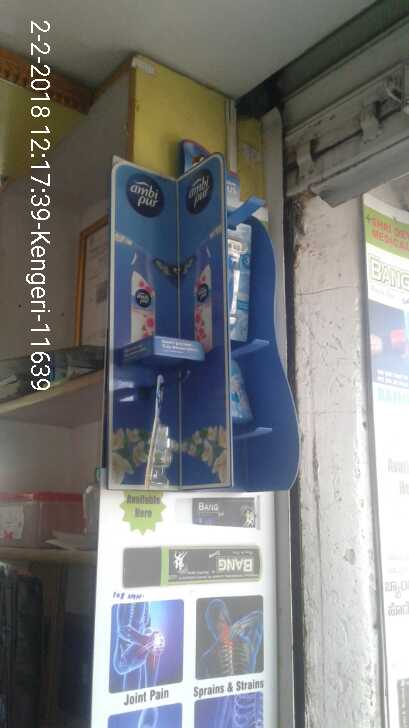reject: (152, 195, 240, 339)
